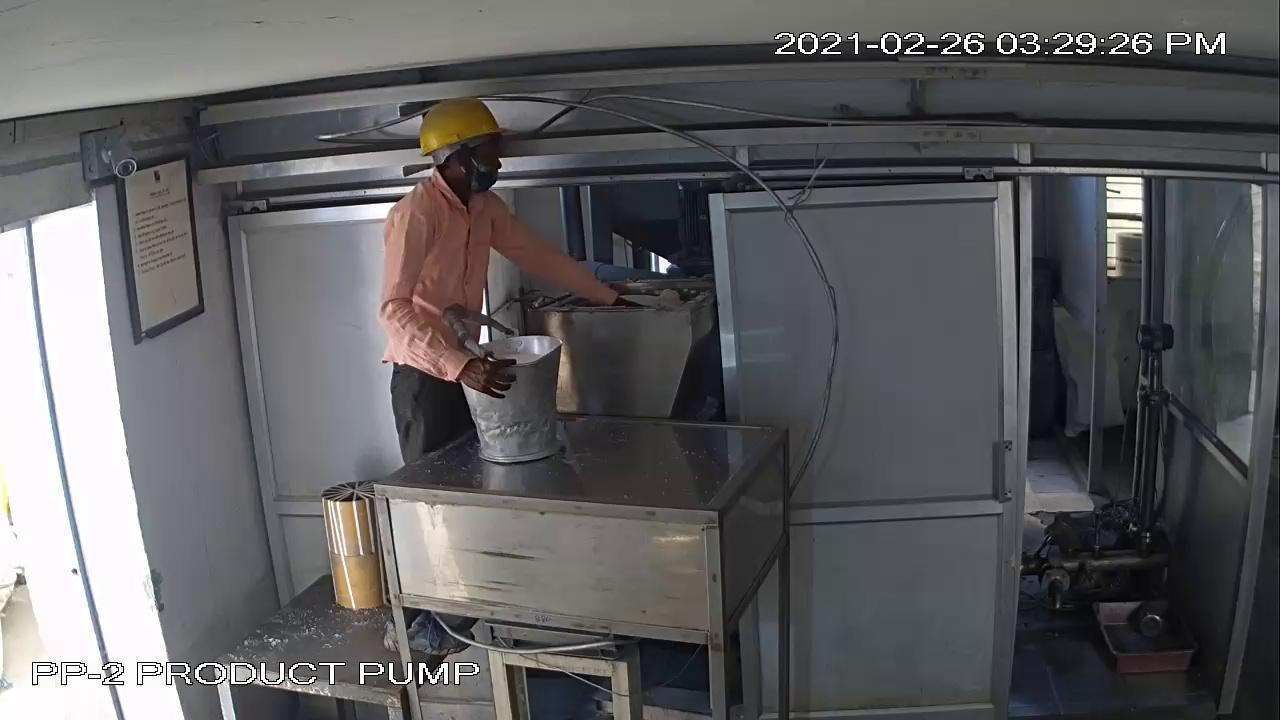helmet: (410, 93, 522, 152)
